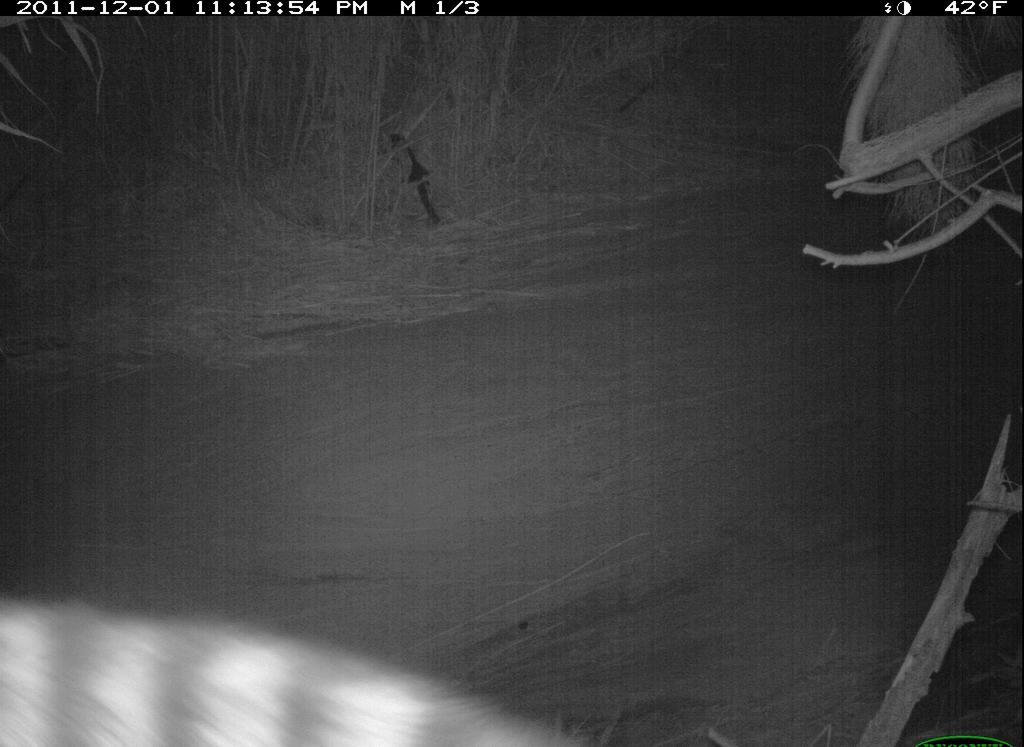raccoon: (2, 593, 611, 747)
